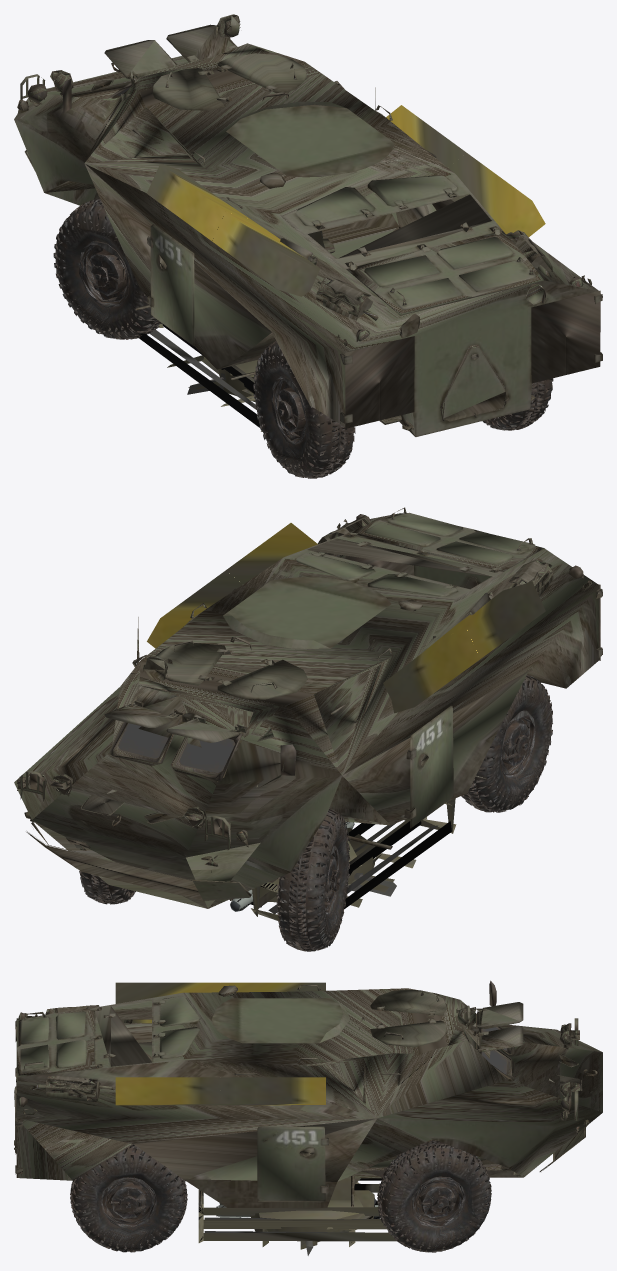
The model's file is strela1_lo.glb.
3 renders of one model, top to bottom at view 1: azimuth 30°, elevation 25°; view 2: azimuth 150°, elevation 25°; view 3: azimuth 270°, elevation 25°, orthographic. The views are drawn at different scales.
Visible parts, largest first — view 1: body|body_shade.007, body|deco_shade.007, body|wheel.007, body|S1_atlas, cradle|S1_atlas, turret|S1_atlas; view 2: body|body_shade.007, body|deco_shade.007, body|wheel.007, body|S1_atlas, cradle|S1_atlas, body|glass_shade.007, turret|S1_atlas; view 3: body|body_shade.007, body|deco_shade.007, body|wheel.007, body|S1_atlas, cradle|S1_atlas, turret|S1_atlas, body|glass_shade.007.
Part boxes in pixels (x1,y1,x2,y2): body|body_shade.007: [14, 43, 598, 436]; body|deco_shade.007: [17, 14, 602, 430]; body|wheel.007: [53, 198, 553, 478]; body|S1_atlas: [147, 105, 545, 296]; cradle|S1_atlas: [138, 323, 262, 431]; turret|S1_atlas: [218, 231, 324, 402]; body|body_shade.007: [14, 513, 599, 908]; body|deco_shade.007: [17, 507, 602, 906]; body|wheel.007: [79, 675, 552, 951]; body|S1_atlas: [147, 523, 545, 713]; cradle|S1_atlas: [251, 798, 456, 920]; body|glass_shade.007: [118, 723, 235, 777]; turret|S1_atlas: [259, 828, 374, 902]; body|body_shade.007: [16, 988, 602, 1207]; body|deco_shade.007: [14, 980, 598, 1207]; body|wheel.007: [70, 1140, 491, 1252]; body|S1_atlas: [115, 982, 325, 1105]; cradle|S1_atlas: [198, 1178, 396, 1255]; turret|S1_atlas: [250, 1178, 374, 1242]; body|glass_shade.007: [476, 1014, 511, 1079].
Bounding box in the file's own units: 2.43 × 2.45 × 5.73.
Materials: 8 (8 with a texture image).
